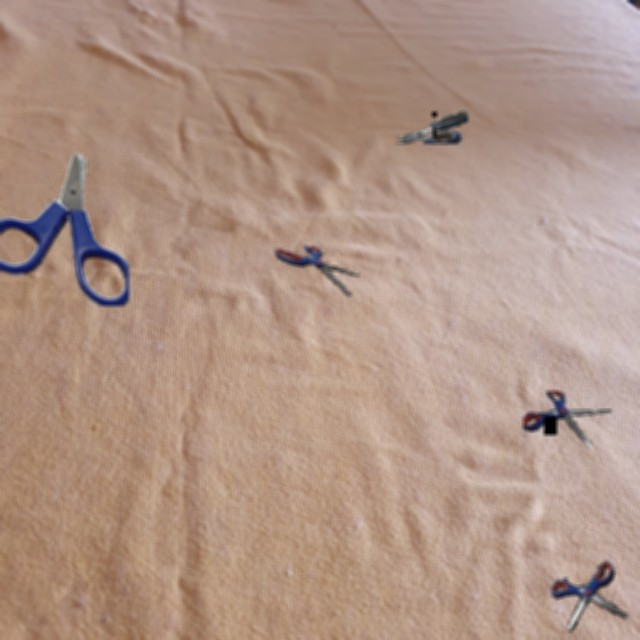scissors: (0, 152, 129, 306), (551, 561, 628, 632), (522, 391, 612, 449), (274, 245, 359, 296), (394, 111, 468, 144)
